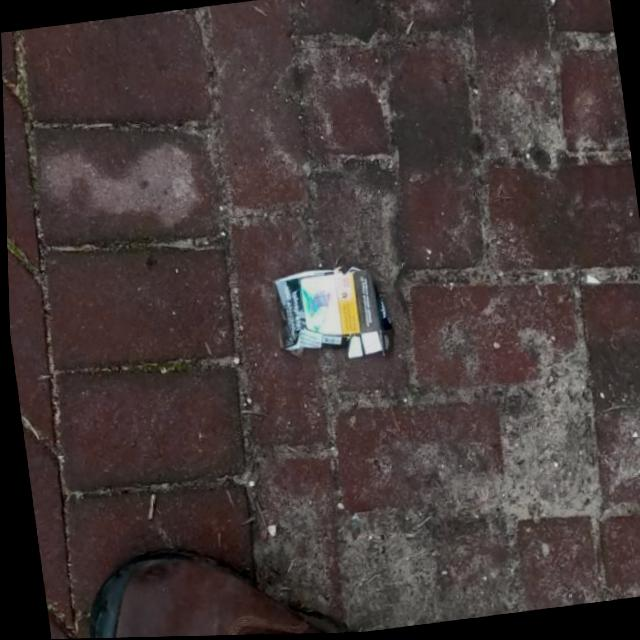Paper: (267, 259, 397, 373)
